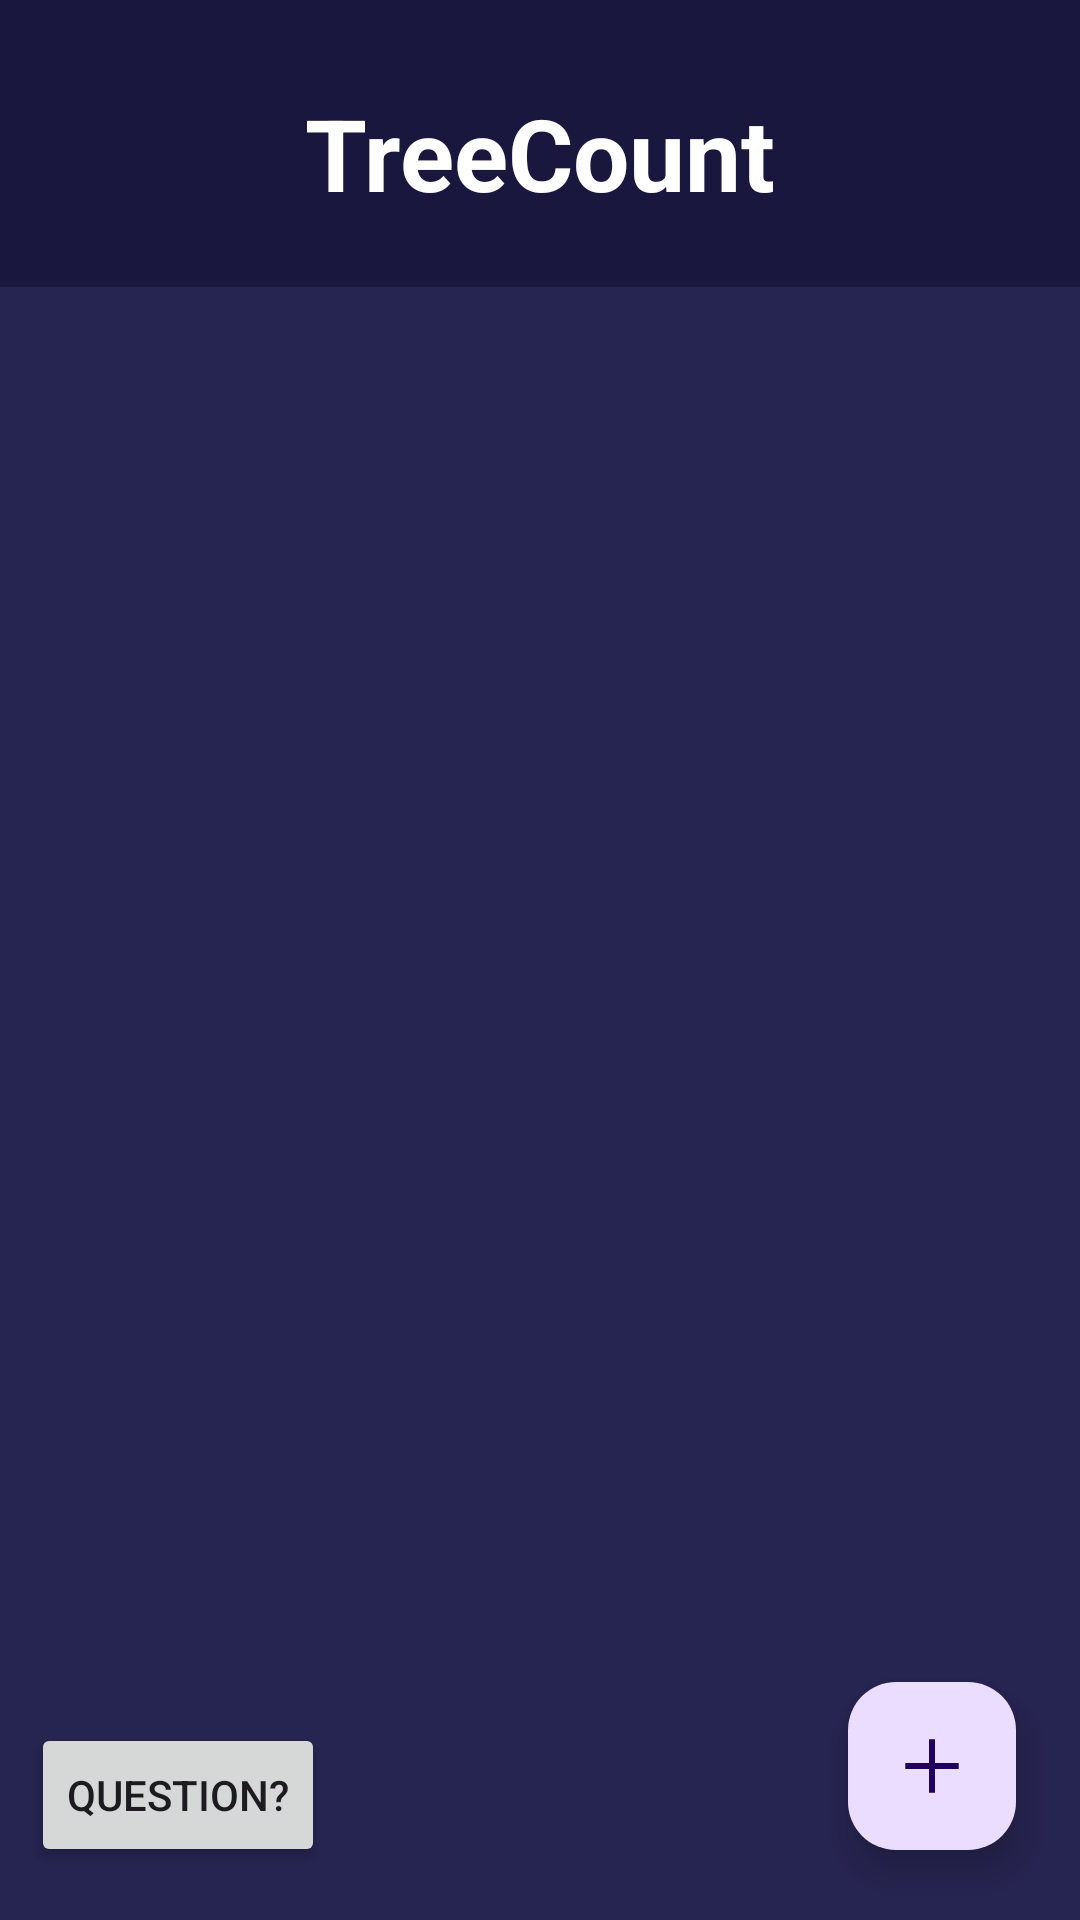

Icon bounding boxes for this 1080×1920 phone screenshot, format (x1, y1, x2, y2):
cross: (848, 1682, 1016, 1850)
